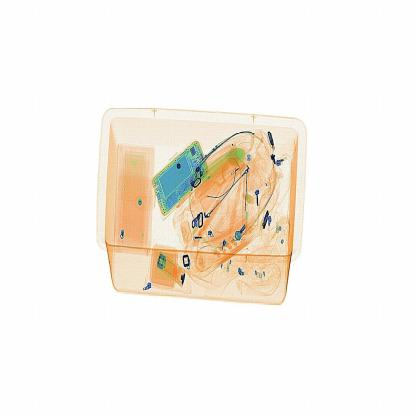pliers: (241, 161, 255, 234)
